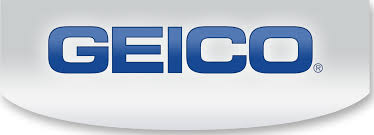geico: (45, 20, 324, 77)
